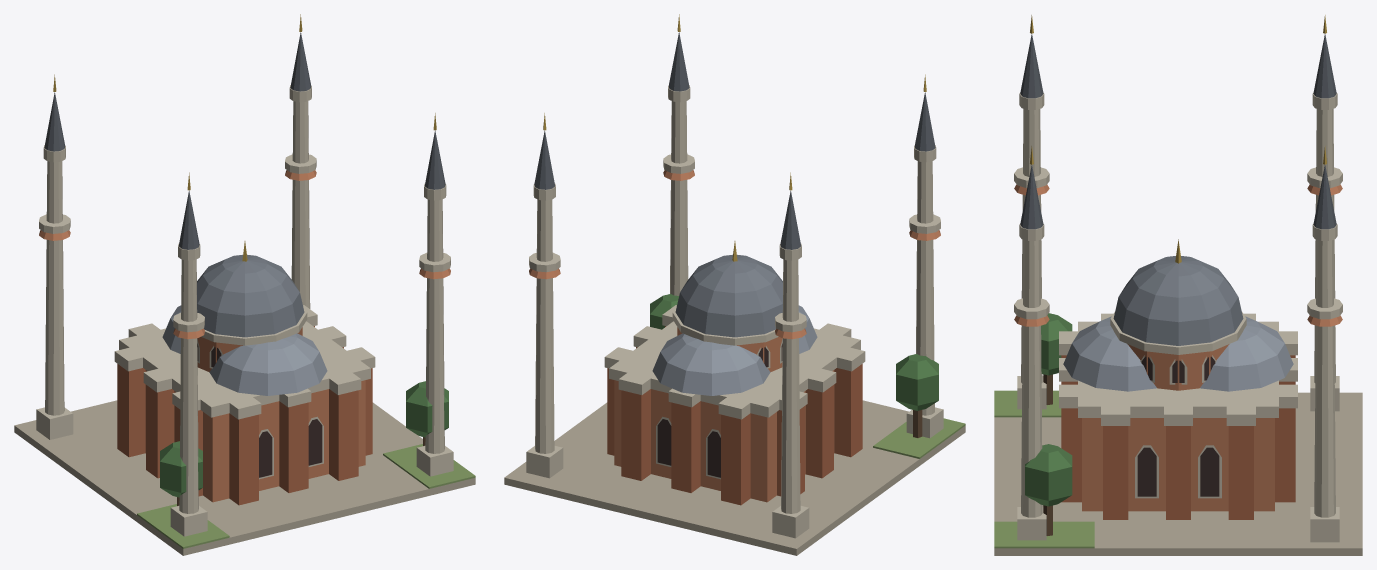
File: sainteSophie.glb
3 renders of one model, left to right at view 1: azimuth 30°, elevation 25°; view 2: azimuth 150°, elevation 25°; view 3: azimuth 270°, elevation 25°, orthographic. The views are drawn at different scales.
Visible parts, largest first — view 1: sainteSophie; view 2: sainteSophie; view 3: sainteSophie.
Boxes of the visible parts, bbox=[...] form: sainteSophie: bbox=[14, 14, 475, 555]; sainteSophie: bbox=[504, 14, 965, 555]; sainteSophie: bbox=[994, 15, 1362, 555].
Size of the model in its own units: 1.76 by 2.1 by 1.76.
